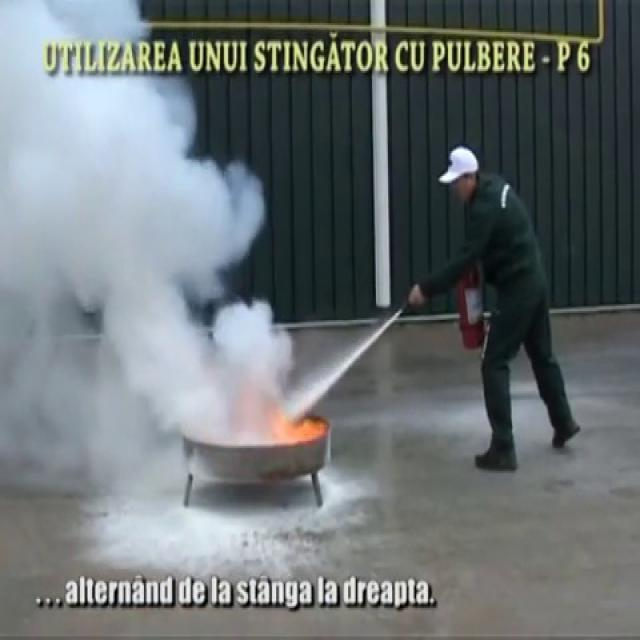Fire: (260, 399, 332, 452)
Smoke: (0, 0, 293, 453)
